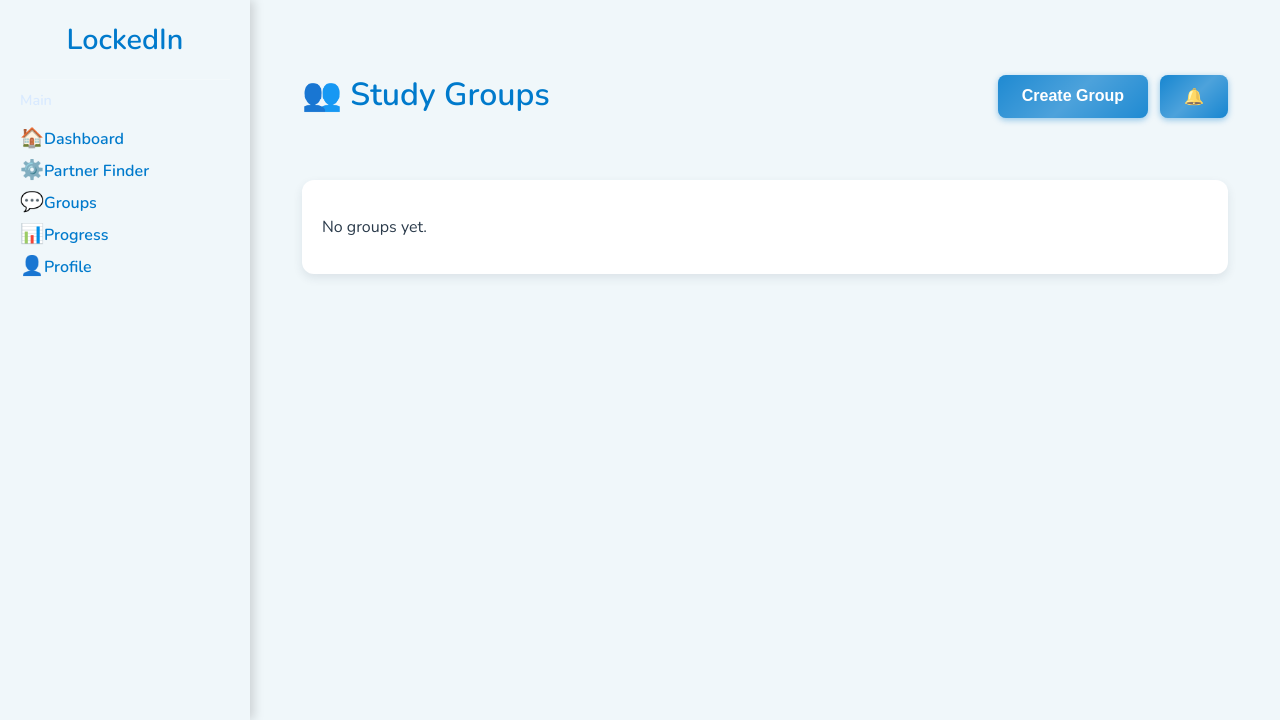
Test: GroupsPage › navigates through create group steps
The width and height of the screenshot is (1280, 720).
# Open modal
Click the button "Create Group". click: coordinates (1073, 96)
box: [998,75,1148,118]
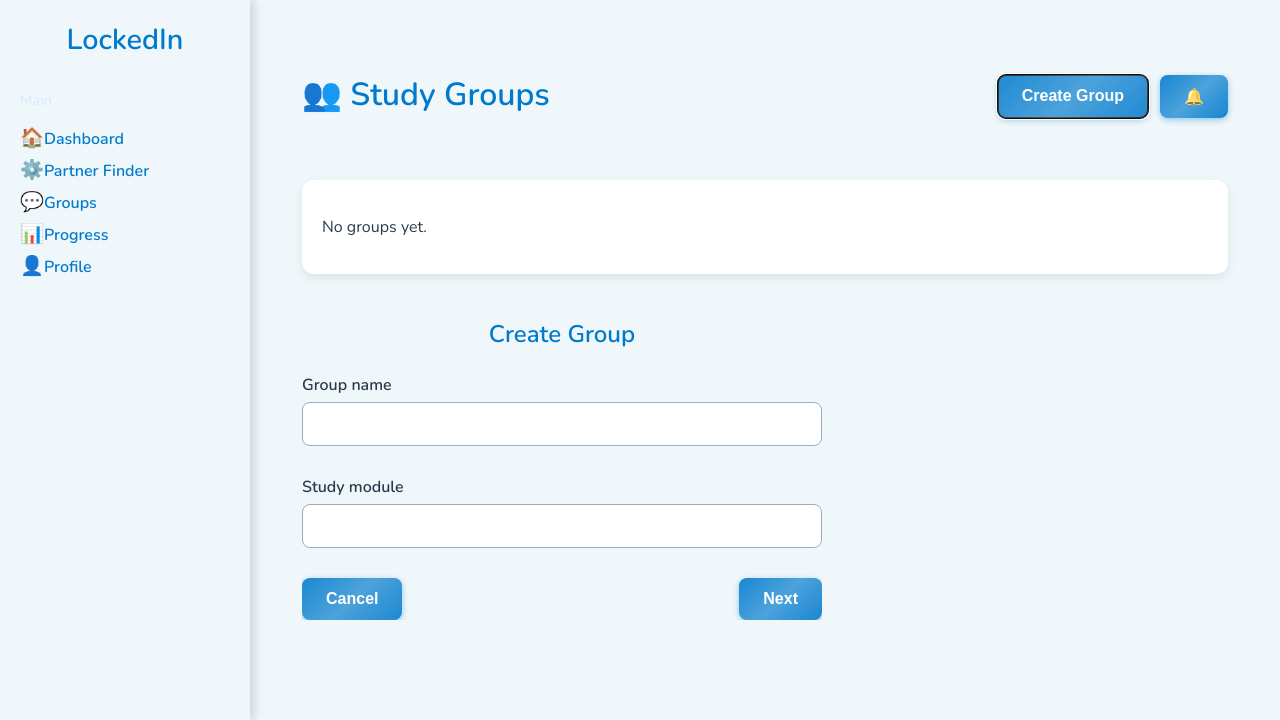
Expected: the button "Next" is shown
# Go to step 2
Click the button "Next". click: coordinates (781, 599)
box: [739,578,822,620]
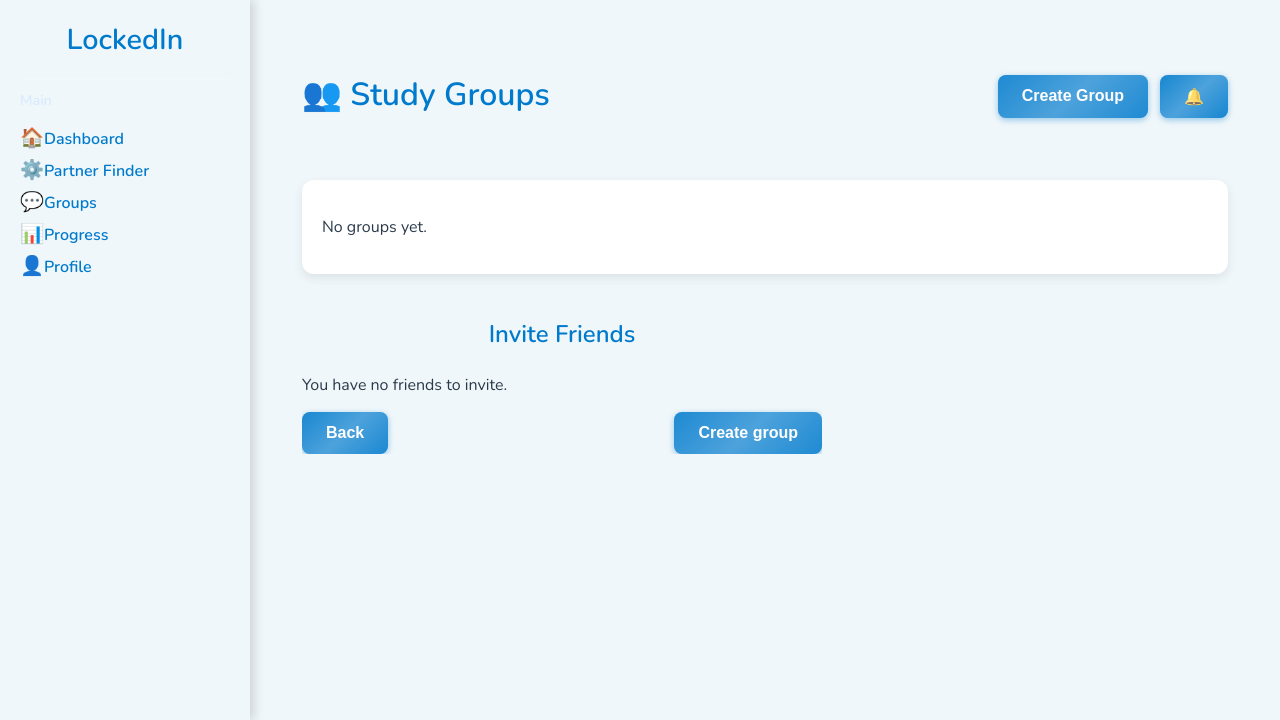
Expected: the heading "Invite Friends" is shown, [489,318,635,350]
Expected: the button "Back" is shown
# Go back to step 1
Click the button "Back". click: coordinates (345, 433)
box: [302,412,388,454]
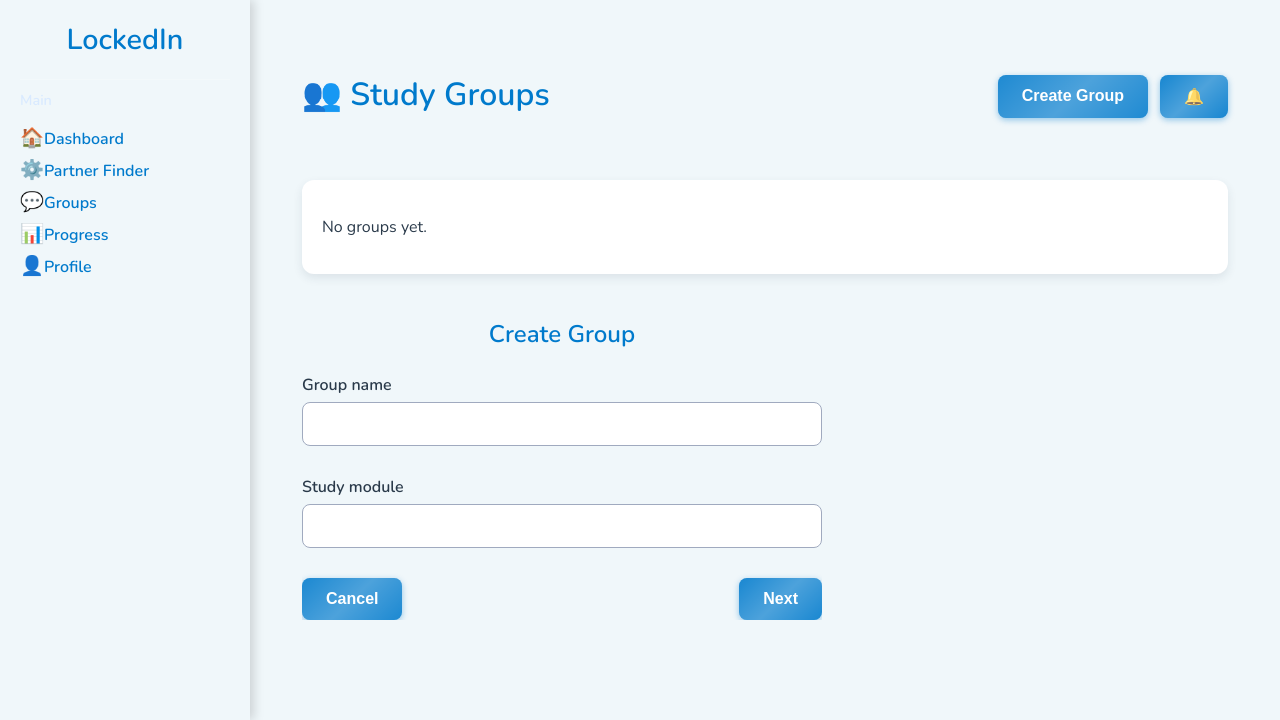
Expected: the button "Next" is shown, [739,578,822,620]
